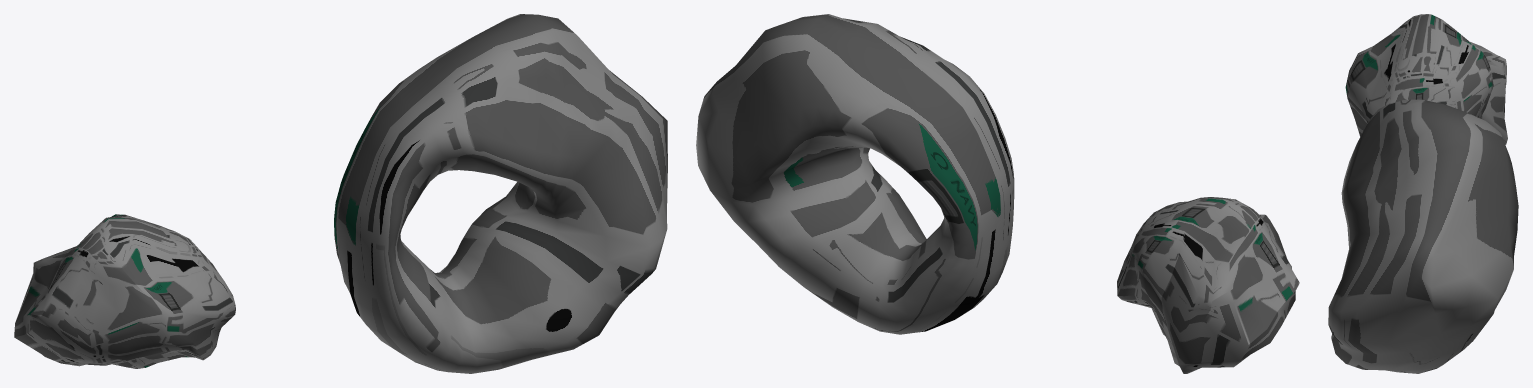
File: Roids.fbx
The picture shows the model from 3 angles, left to right: view 1: azimuth 30°, elevation 25°; view 2: azimuth 150°, elevation 25°; view 3: azimuth 270°, elevation 25°; orthographic projection. The views are drawn at different scales.
Parts seen in each view (by area): view 1: Ring1_LOD0, Rock1_LOD0; view 2: Ring1_LOD0, Rock1_LOD0; view 3: Ring1_LOD0, Rock1_LOD0.
Boxes of the visible parts, x1,y1,x2,y2 form: Ring1_LOD0: [334, 14, 667, 373]; Rock1_LOD0: [14, 214, 235, 368]; Ring1_LOD0: [696, 14, 1014, 334]; Rock1_LOD0: [1117, 197, 1299, 373]; Ring1_LOD0: [1328, 99, 1518, 373]; Rock1_LOD0: [1345, 14, 1507, 144].
Size of what is drawn, in the model's own units: 16327 by 7862 by 4935.
